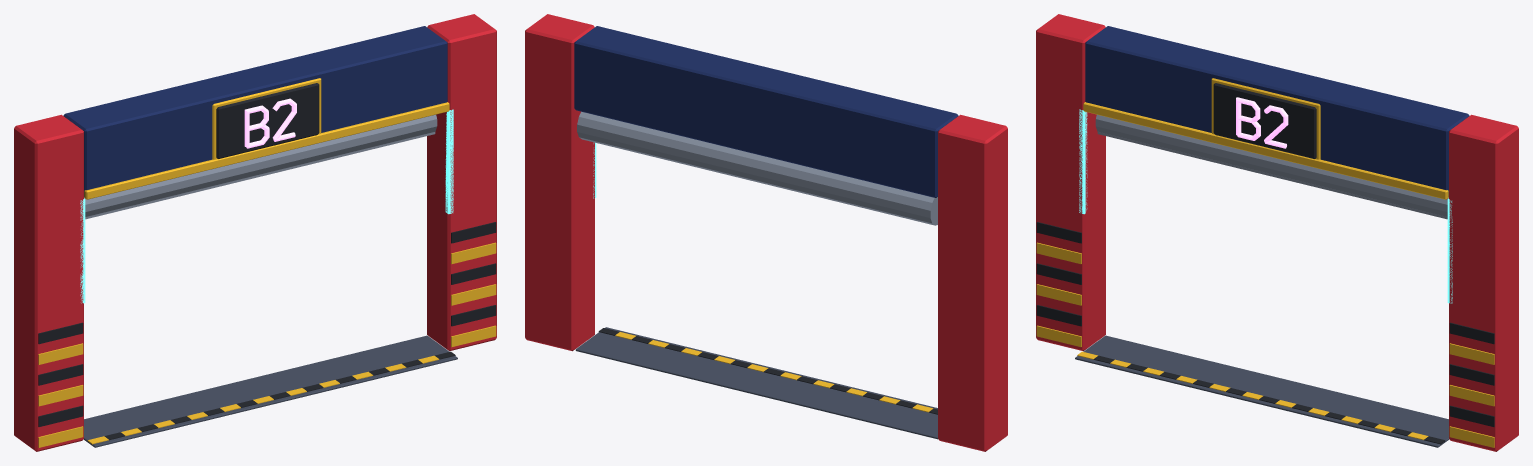
The model's file is GarageFront_B2.fbx.
3 renders of one model, left to right at view 1: azimuth 30°, elevation 25°; view 2: azimuth 150°, elevation 25°; view 3: azimuth 330°, elevation 25°, orthographic.
Visible parts, largest first — view 1: GarageFront_B2, Neon_Cyan, Neon_Pink; view 2: GarageFront_B2; view 3: GarageFront_B2, Neon_Cyan, Neon_Pink.
Boxes of the visible parts, x1=… form: GarageFront_B2: x1=14, y1=14, x2=496, y2=451; Neon_Cyan: x1=80, y1=109, x2=453, y2=303; Neon_Pink: x1=244, y1=98, x2=296, y2=148; GarageFront_B2: x1=525, y1=14, x2=1007, y2=451; GarageFront_B2: x1=1036, y1=14, x2=1518, y2=451; Neon_Cyan: x1=1079, y1=109, x2=1452, y2=303; Neon_Pink: x1=1236, y1=97, x2=1288, y2=148.
Bounding box in the file's own units: 28 × 18 × 3.53.
Materials: 3 (1 with a texture image).
